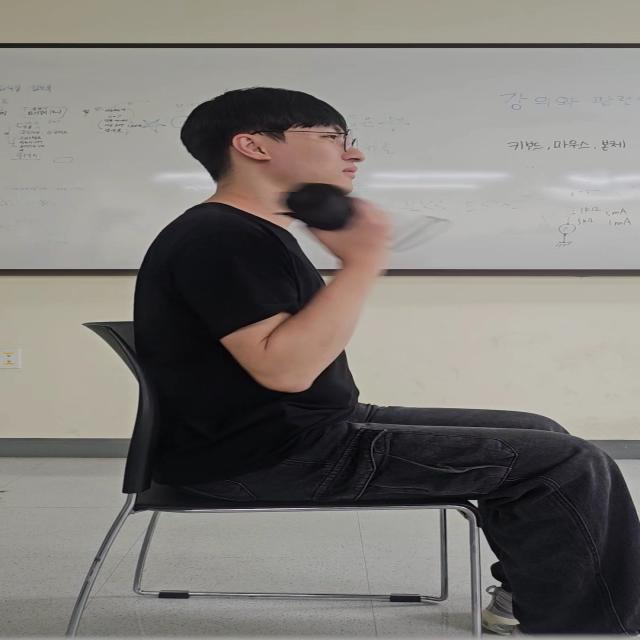curl: (137, 170, 400, 410)
